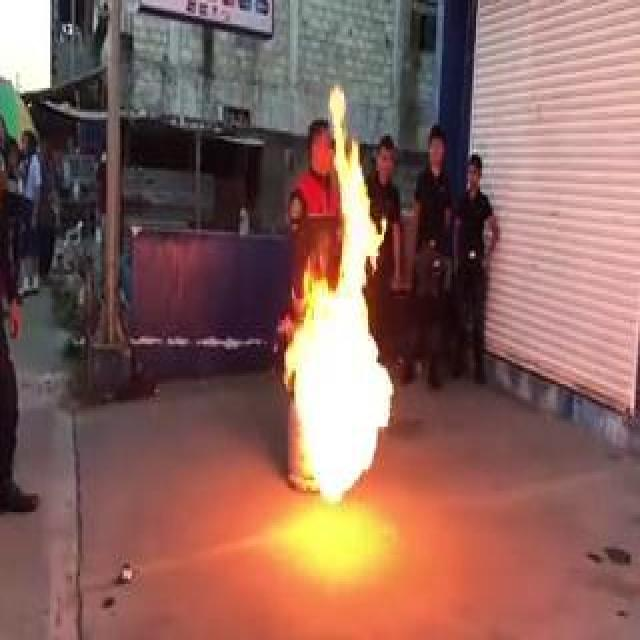Fire: (278, 85, 396, 515)
